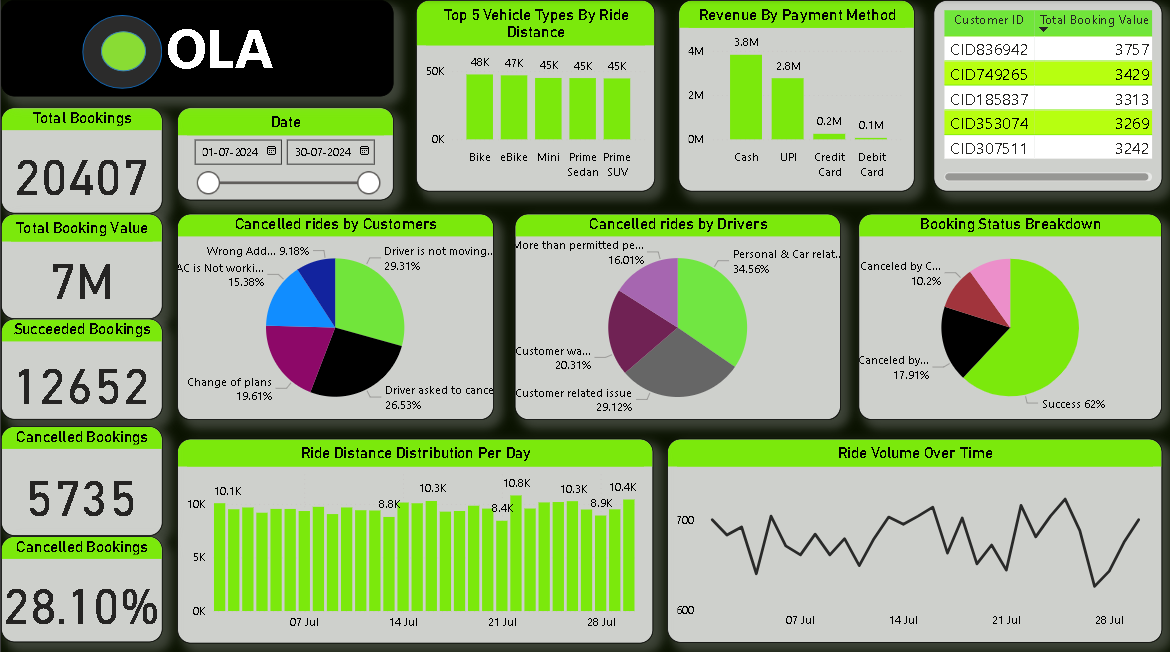

This screenshot's page, from the dashboard's own definition file:
{"tool":"powerbi","page":{"name":"Page 1","canvas":[1280,720],"ordinal":0},"visuals":[{"type":"lineChart","title":" Ride Volume Over Time","fields":{"Y":["CountNonNull(Bookings-20000-Rows.Booking_ID)"],"Category":["Bookings-20000-Rows.Date"]},"box":[729,480.1,541.7,223],"z":0},{"type":"pieChart","title":"Booking Status Breakdown","fields":{"Category":["Bookings-20000-Rows.Booking_Status"],"Y":["CountNonNull(Bookings-20000-Rows.Booking_Status)"]},"box":[938.3,233.9,332.4,225.7],"z":1000},{"type":"slicer","title":"Date","fields":{"Values":["Bookings-20000-Rows.Date"]},"box":[192.9,117.6,236.6,101.2],"z":2000},{"type":"card","title":"Total Bookings","fields":{"Values":["CountNonNull(Bookings-20000-Rows.Booking_ID)"]},"box":[0,117.6,176.4,116.3],"z":3000},{"type":"card","title":"Total Booking Value","fields":{"Values":["Sum(Bookings-20000-Rows.Booking_Value)"]},"box":[0,233.9,176.4,114.9],"z":4000},{"type":"tableEx","title":"Top 5 Customer","fields":{"Values":["Bookings-20000-Rows.Customer_ID","Sum(Bookings-20000-Rows.Booking_Value)"]},"box":[1020.4,0,250.3,209.3],"z":5000},{"type":"clusteredColumnChart","title":"Revenue By Payment Method","fields":{"Category":["Bookings-20000-Rows.Payment_Method"],"Y":["Sum(Bookings-20000-Rows.Booking_Value)"]},"box":[741.4,0,258.5,209.3],"z":6000},{"type":"clusteredColumnChart","title":"Top 5 Vehicle Types By Ride Distance","fields":{"Category":["Bookings-20000-Rows.Vehicle_Type"],"Y":["Sum(Bookings-20000-Rows.Ride_Distance)"]},"box":[454.1,0,261.3,209.3],"z":7000},{"type":"columnChart","title":"Ride Distance Distribution Per Day","fields":{"Category":["Bookings-20000-Rows.Date"],"Y":["Sum(Bookings-20000-Rows.Ride_Distance)"]},"box":[192.9,480.1,521.1,224.3],"z":8000},{"type":"textbox","box":[0,0,429.5,105.3],"z":9000},{"type":"shape","box":[109.4,34.2,49.2,43.8],"z":10000},{"type":"shape","box":[88.9,16.4,87.5,80.7],"z":11000},{"type":"pieChart","title":"Cancelled rides by Customers","fields":{"Category":["Bookings-20000-Rows.Canceled_Rides_by_Customer"],"Y":["CountNonNull(Bookings-20000-Rows.Canceled_Rides_by_Customer)"]},"box":[192.9,233.9,346.1,225.7],"z":12000},{"type":"pieChart","title":"Cancelled rides by Drivers","fields":{"Y":["CountNonNull(Bookings-20000-Rows.Canceled_Rides_by_Driver)"],"Category":["Bookings-20000-Rows.Canceled_Rides_by_Driver"]},"box":[562.2,233.9,357,225.7],"z":13000},{"type":"card","title":"Succeeded Bookings","fields":{"Values":["CountNonNull(Bookings-20000-Rows.Booking_ID)"]},"box":[0,348.8,176.4,110.8],"z":14000},{"type":"card","title":"Cancelled Bookings","fields":{"Values":["CountNonNull(Bookings-20000-Rows.Booking_ID)"]},"box":[0,466.4,176.4,120.4],"z":15000},{"type":"card","title":"Cancelled Bookings","fields":{"Values":["Bookings-20000-Rows.CancelledPercentage"]},"box":[0,586.8,176.4,116.3],"z":16000}]}

Visuals, with their boxes in screenshot pixels (x1, y1, x2, y2), scaled from the page's 1280x720 canvas onto the 1170x652 screenshot:
" Ride Volume Over Time" lineChart: bbox(666, 435, 1161, 637)
"Booking Status Breakdown" pieChart: bbox(858, 212, 1161, 416)
"Date" slicer: bbox(176, 106, 393, 198)
"Total Bookings" card: bbox(0, 106, 161, 212)
"Total Booking Value" card: bbox(0, 212, 161, 316)
"Top 5 Customer" tableEx: bbox(933, 0, 1161, 190)
"Revenue By Payment Method" clusteredColumnChart: bbox(678, 0, 914, 190)
"Top 5 Vehicle Types By Ride Distance" clusteredColumnChart: bbox(415, 0, 654, 190)
"Ride Distance Distribution Per Day" columnChart: bbox(176, 435, 653, 638)
textbox: bbox(0, 0, 393, 95)
shape: bbox(100, 31, 145, 71)
shape: bbox(81, 15, 161, 88)
"Cancelled rides by Customers" pieChart: bbox(176, 212, 493, 416)
"Cancelled rides by Drivers" pieChart: bbox(514, 212, 840, 416)
"Succeeded Bookings" card: bbox(0, 316, 161, 416)
"Cancelled Bookings" card: bbox(0, 422, 161, 531)
"Cancelled Bookings" card: bbox(0, 531, 161, 637)
